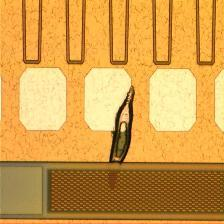PARTICLE: (103, 83, 143, 192)
